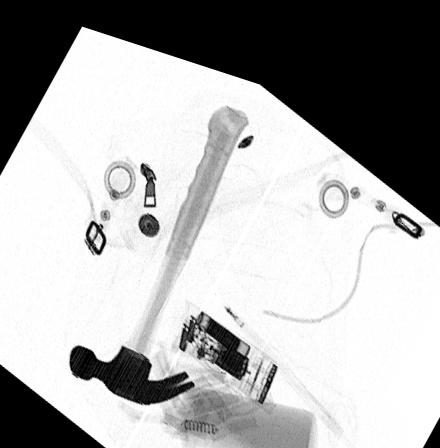Hammer: (66, 89, 250, 398)
